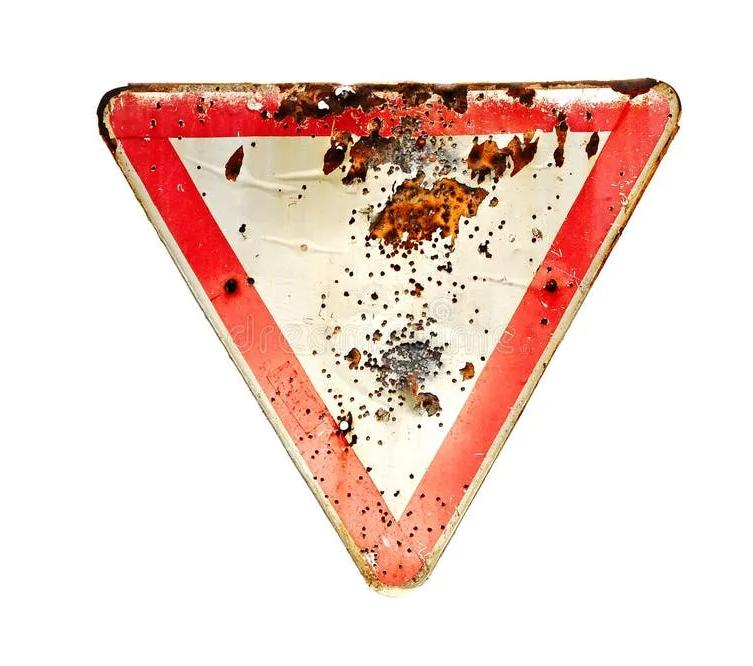obstructed_road_sign: (98, 79, 680, 591)
